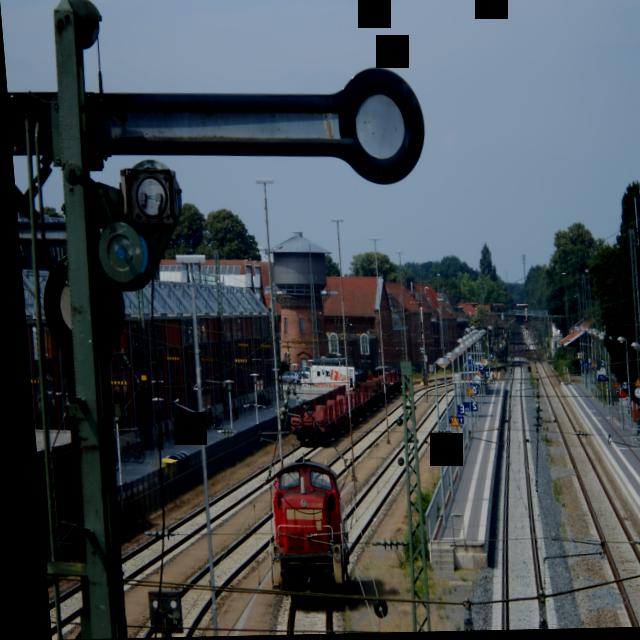flatcar: (281, 401, 330, 449)
locomotive: (246, 448, 350, 610)
